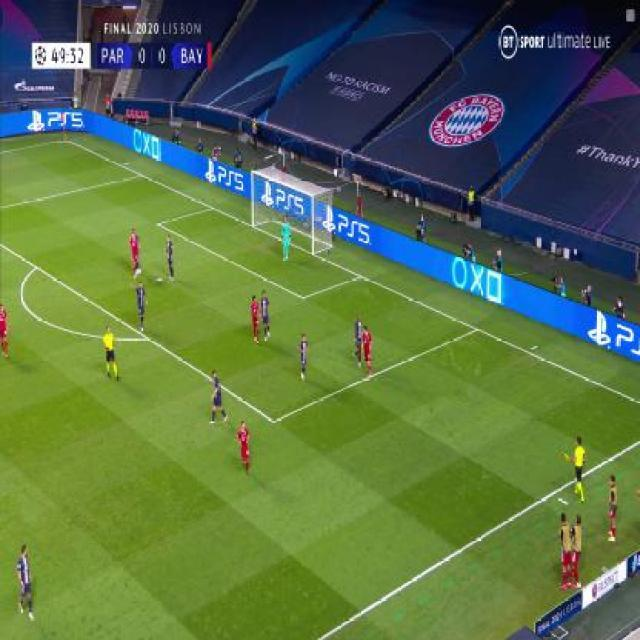player: (560, 436, 588, 505), (16, 545, 35, 619), (568, 514, 584, 587), (208, 370, 227, 426), (558, 511, 572, 584), (103, 325, 120, 381), (235, 418, 251, 475), (606, 474, 619, 543), (361, 324, 374, 383), (351, 312, 364, 369), (133, 280, 147, 331), (127, 228, 141, 279), (259, 289, 272, 342), (248, 293, 261, 344), (297, 332, 310, 380), (163, 235, 176, 281), (279, 216, 292, 262), (0, 302, 9, 359)
